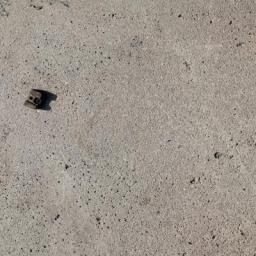FOD: (22, 83, 60, 118)
